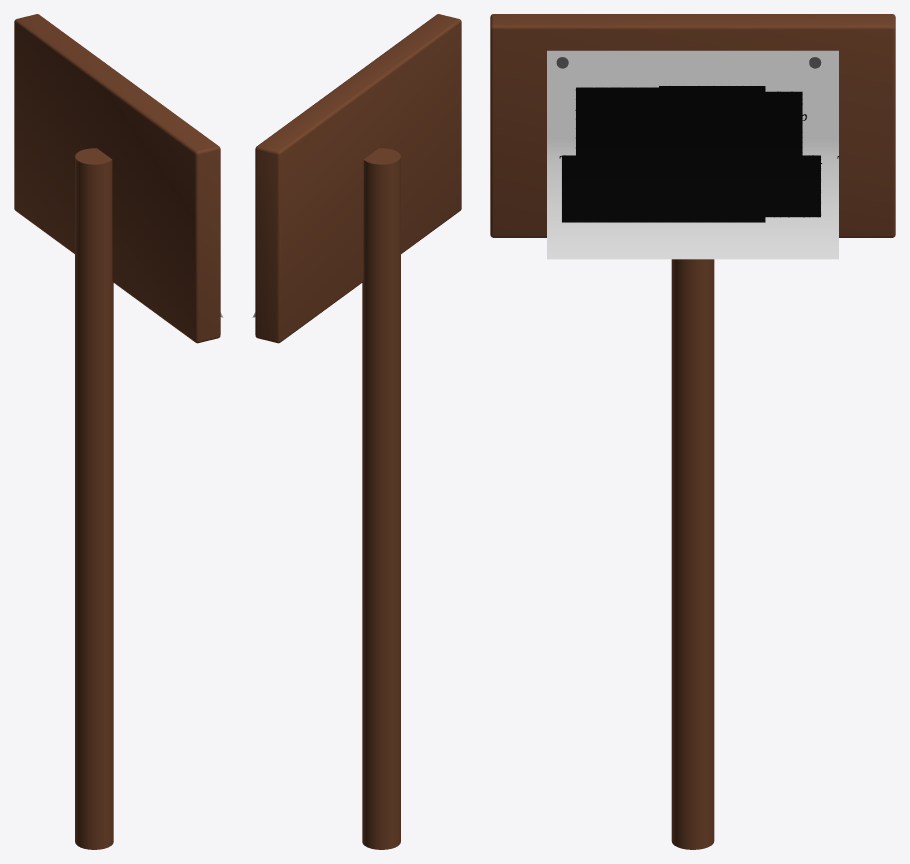
Rendered from sign1.fbx.
The picture shows the model from 3 angles, left to right: view 1: azimuth 30°, elevation 25°; view 2: azimuth 150°, elevation 25°; view 3: azimuth 270°, elevation 25°; orthographic projection. The views are drawn at different scales.
Visible parts, largest first — view 1: Cube, Cylinder; view 2: Cube, Cylinder; view 3: Plane_1_1, Cube, Cylinder.
Part boxes in pixels (<box>): Cube: <box>14,14,220,343</box>; Cylinder: <box>75,148,113,849</box>; Cube: <box>255,14,461,343</box>; Cylinder: <box>362,148,400,849</box>; Plane_1_1: <box>547,51,838,259</box>; Cube: <box>490,14,895,237</box>; Cylinder: <box>671,259,714,849</box>.
Bounding box in the file's own units: 30.69 × 276 × 122.
4 materials, 1 textured.
